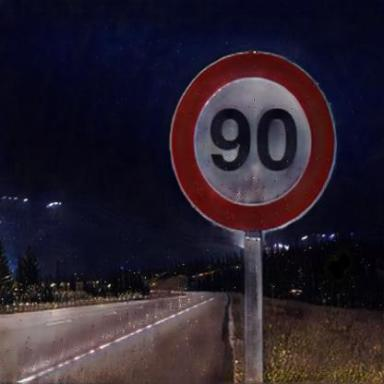Speed_limit_90: (172, 52, 337, 232)
